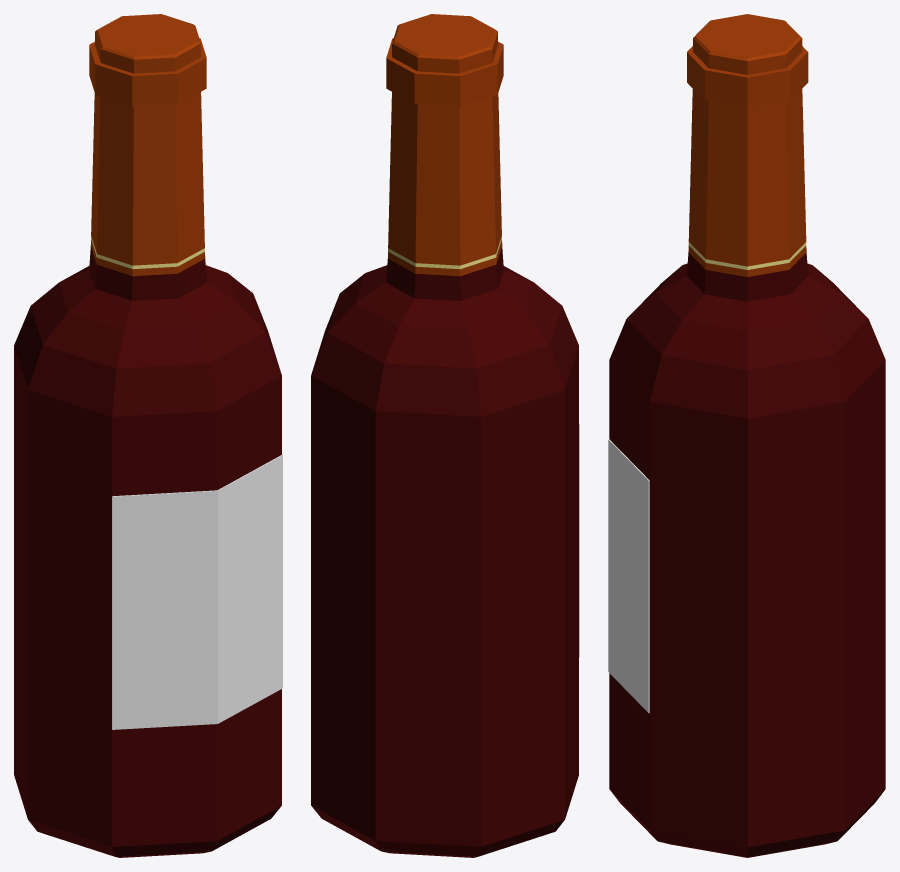
File: wine-bottle-by-poly-by-google-9x0nvCLHWpo.glb
The picture shows the model from 3 angles, left to right: view 1: azimuth 30°, elevation 25°; view 2: azimuth 150°, elevation 25°; view 3: azimuth 270°, elevation 25°; orthographic projection.
Parts seen in each view (by area): view 1: Node; view 2: Node; view 3: Node.
Boxes of the visible parts, x1,y1,x2,y2 form: Node: (14, 14, 282, 857); Node: (311, 14, 579, 857); Node: (608, 14, 885, 857).
Bounding box in the file's own units: 1.38 × 4.26 × 1.38.
